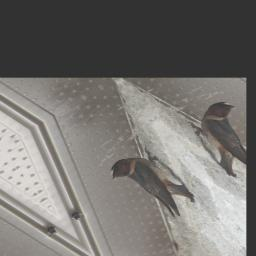Swallow: (104, 142, 203, 230)
